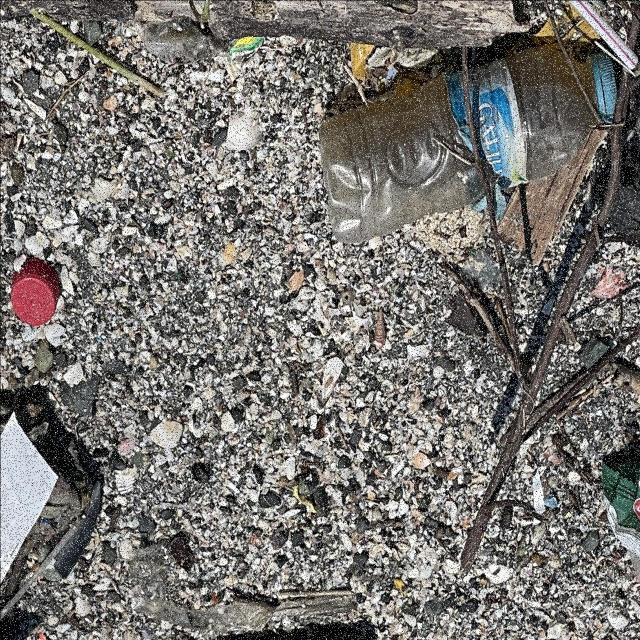plastic_waste: (319, 44, 618, 241), (22, 4, 163, 98), (8, 259, 60, 326)
